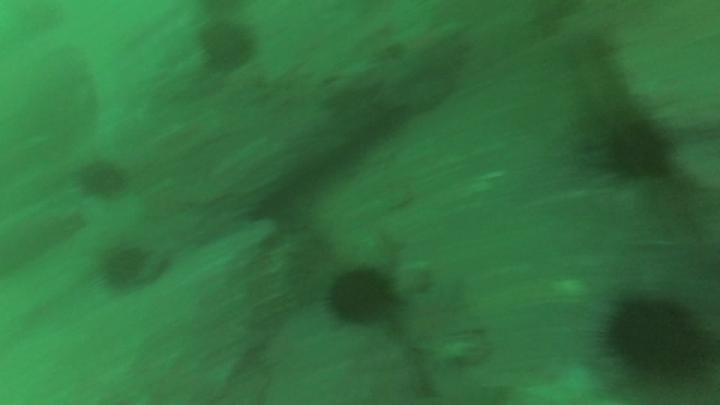echinus: (602, 293, 713, 385), (600, 116, 675, 183), (325, 265, 398, 327), (196, 18, 258, 72), (97, 241, 152, 291), (76, 157, 128, 201), (197, 0, 250, 21)
starfish: (385, 16, 471, 86), (521, 359, 613, 404)
